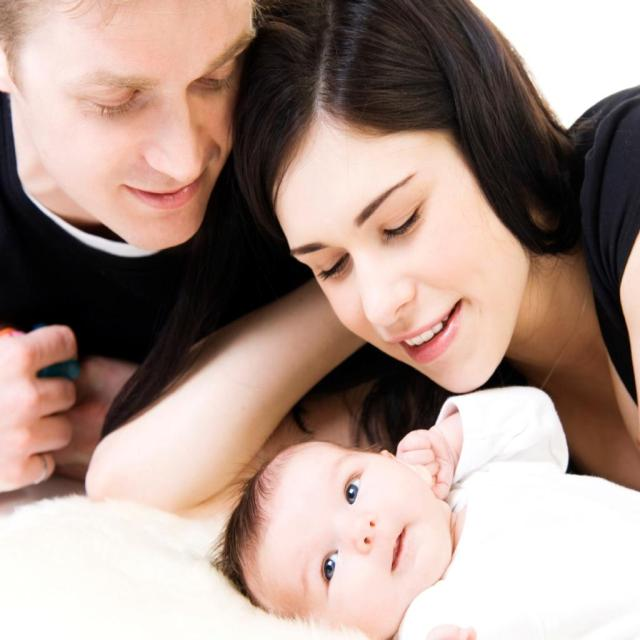Face: (286, 121, 523, 400), (3, 4, 242, 250), (246, 451, 454, 624)
